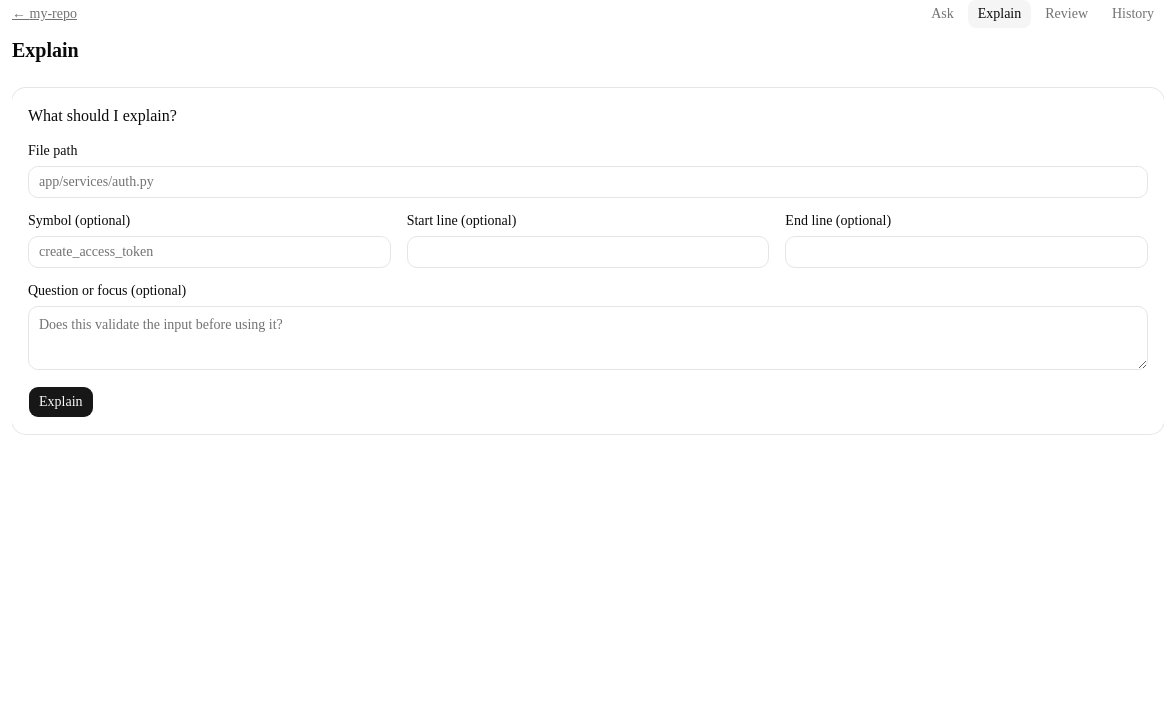
Test case: ExplainPage › renders a dedicated insufficient-evidence state, not an error
Type "does/not/exist.py" into the field labelled "File path" at (588, 182), box [28,166,1148,198]
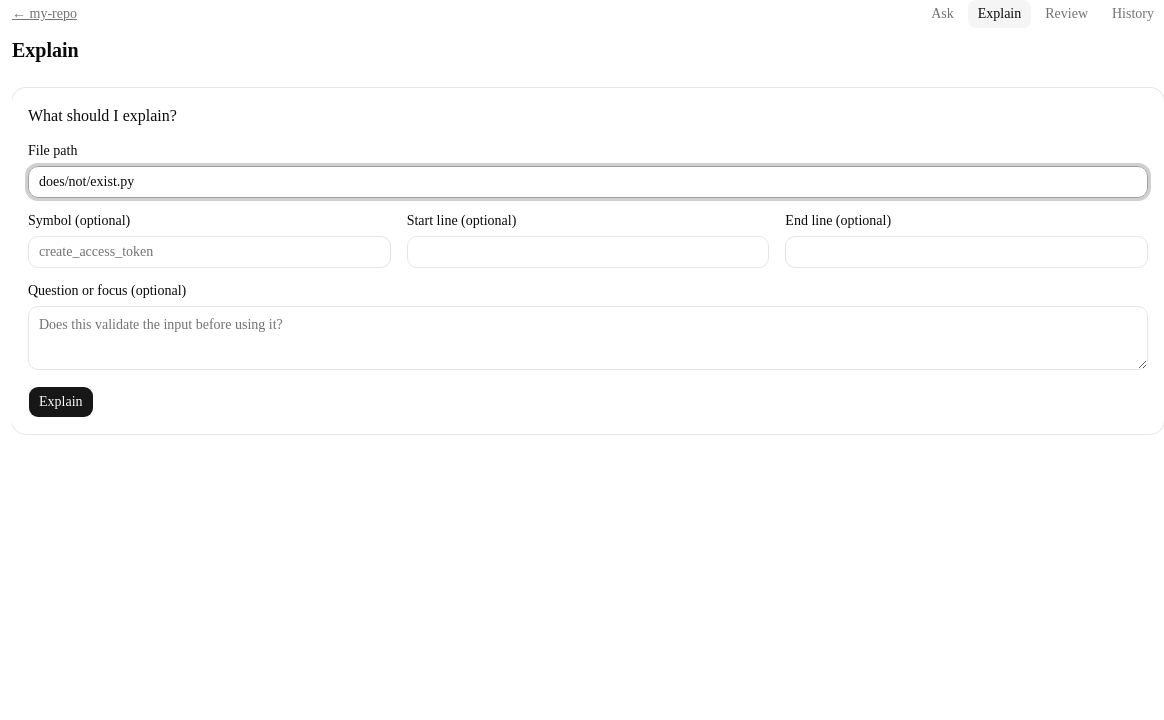
Click the button "Explain" at (61, 402), box [28,386,94,418]
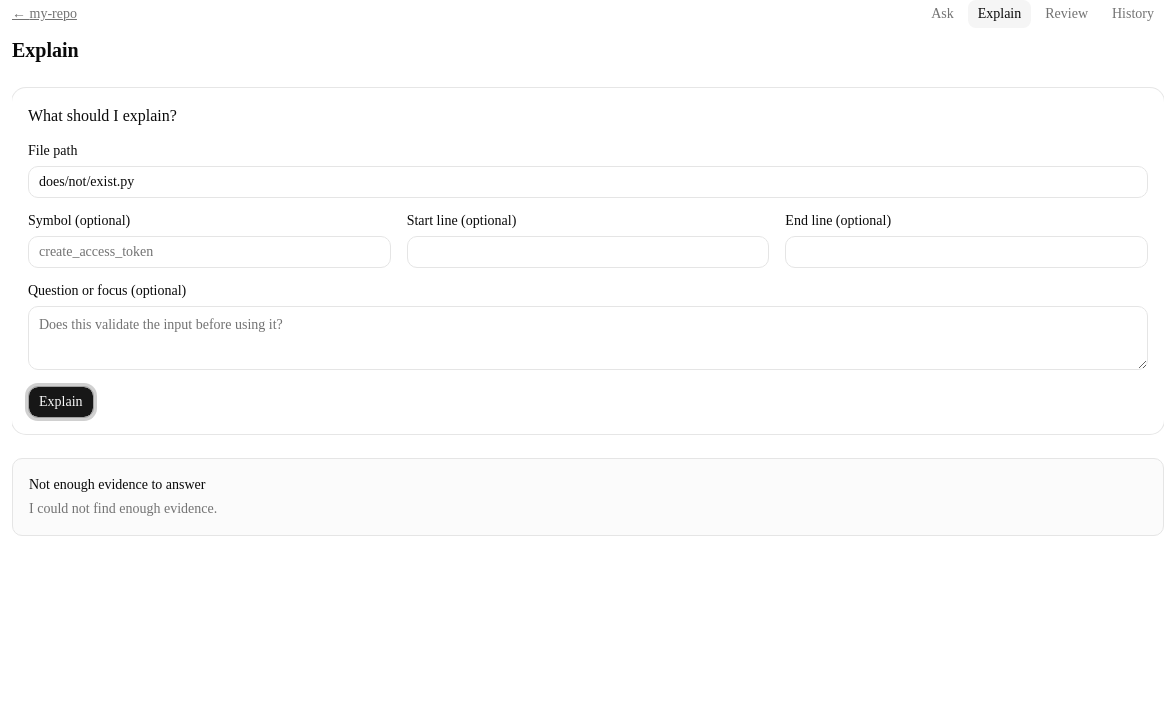
Result: the text "Not enough evidence to answer" is shown at [29,477,206,492]
